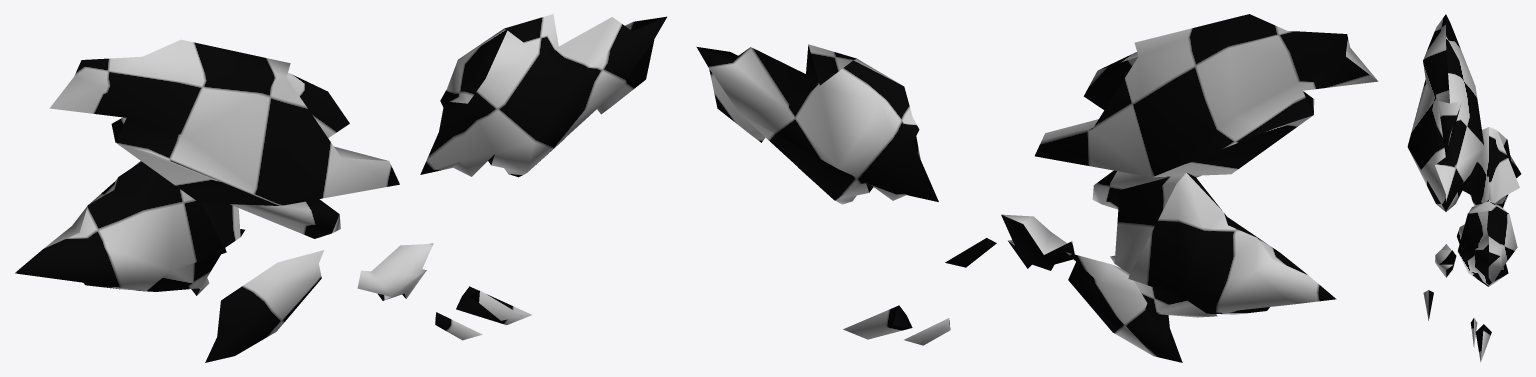
The model's file is asset-eic-asteroid-c.obj.
3 views of the same model, side by side, from view 1: azimuth 30°, elevation 25°; view 2: azimuth 150°, elevation 25°; view 3: azimuth 270°, elevation 25° (orthographic). The views are drawn at different scales.
Visible parts, largest first — view 1: asset_eic_asteroid_c; view 2: asset_eic_asteroid_c; view 3: asset_eic_asteroid_c.
Part boxes in pixels (left/top/right/bottom): asset_eic_asteroid_c: left=15, top=14, right=666, bottom=362; asset_eic_asteroid_c: left=696, top=14, right=1378, bottom=362; asset_eic_asteroid_c: left=1407, top=14, right=1521, bottom=362.
Size of the model in its own units: 400 by 233 by 109.
1 material, 1 textured.
